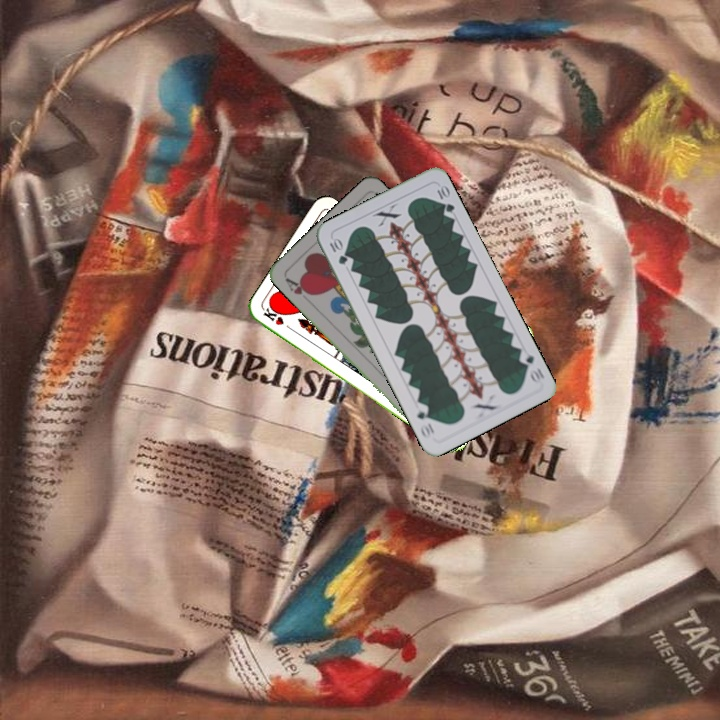G10: (515, 347, 547, 387), (325, 234, 350, 267)
HA: (281, 274, 316, 299)
HK: (259, 304, 296, 333)
